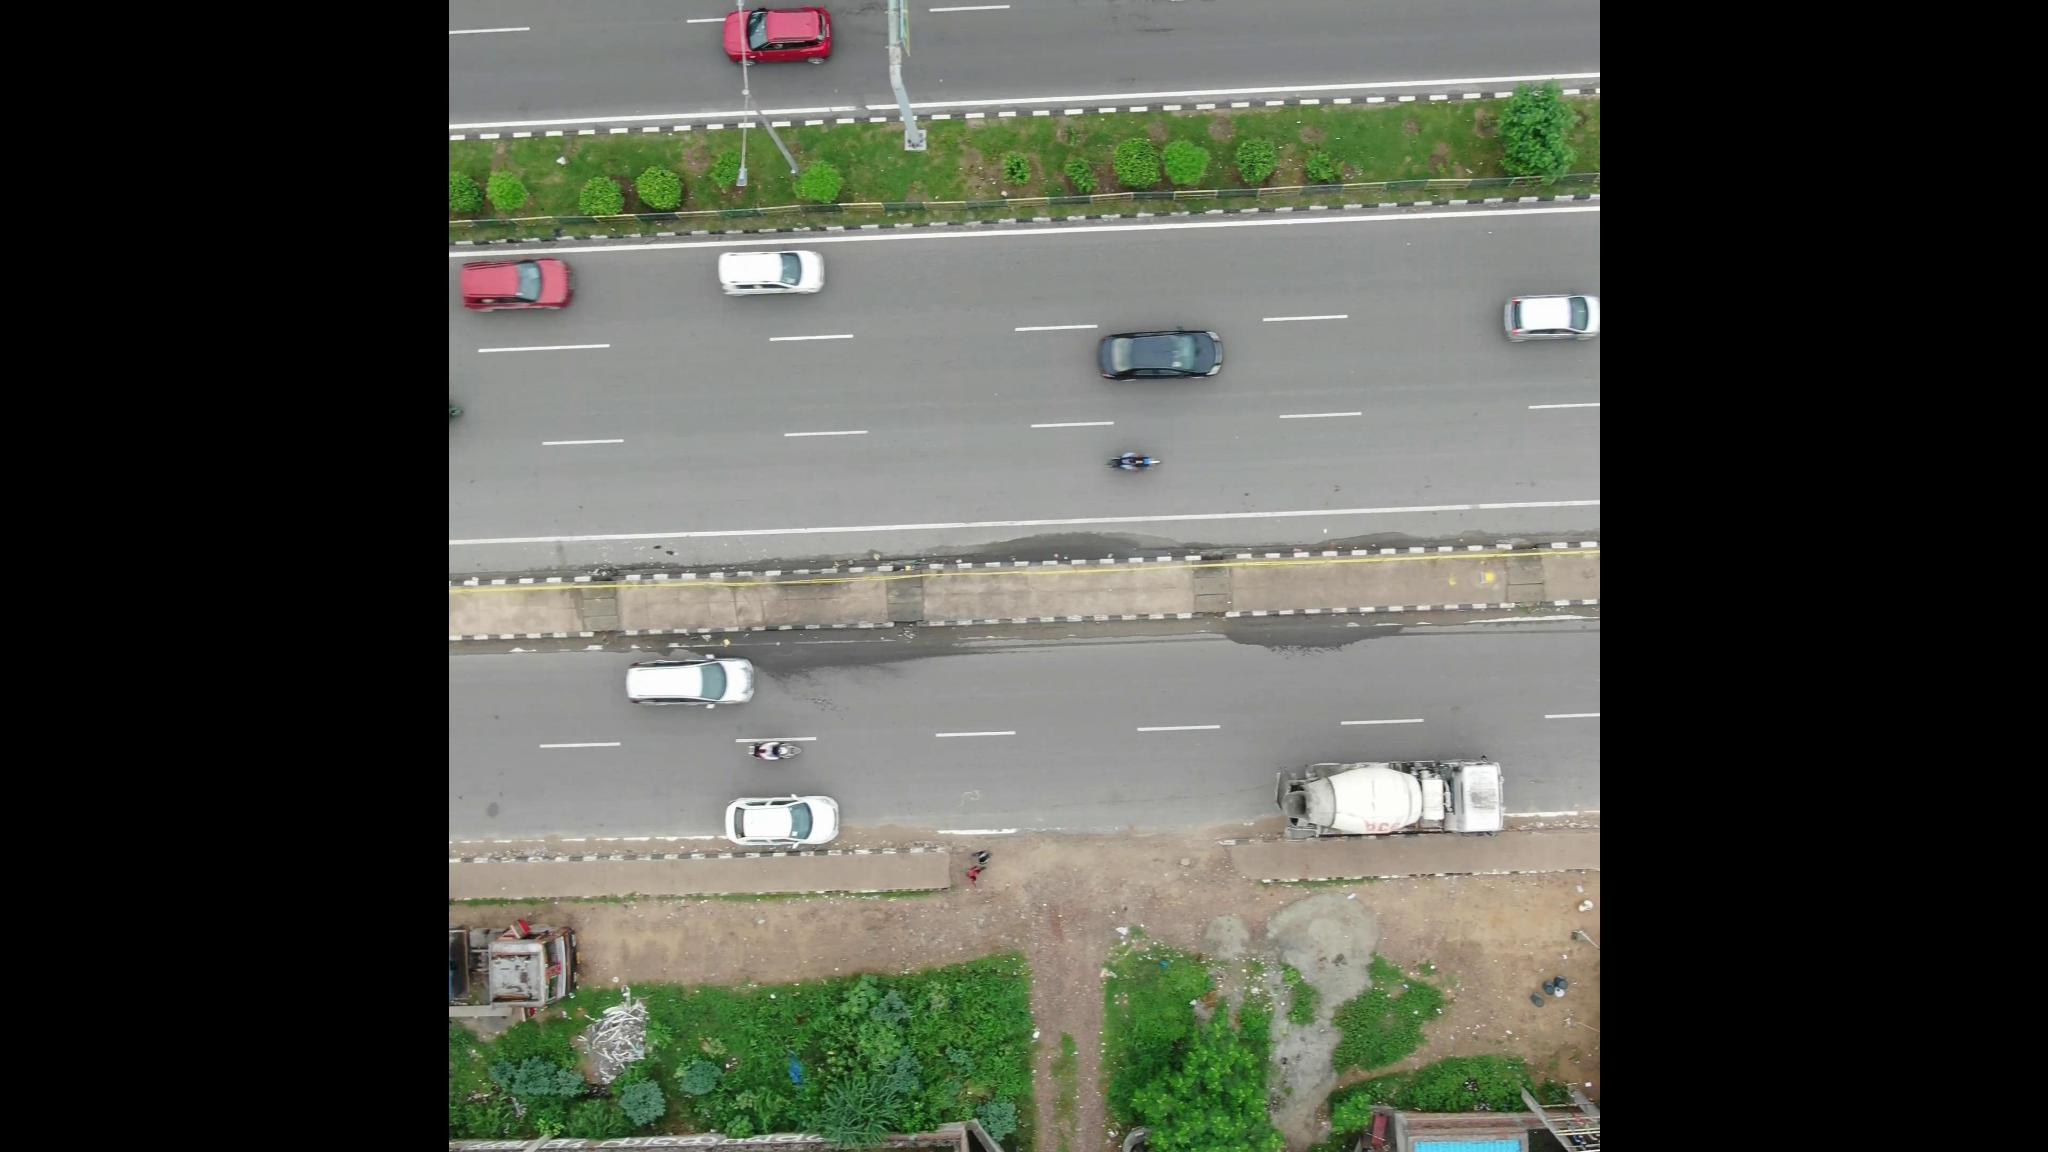Muddy_road: (1508, 812, 1599, 833)
